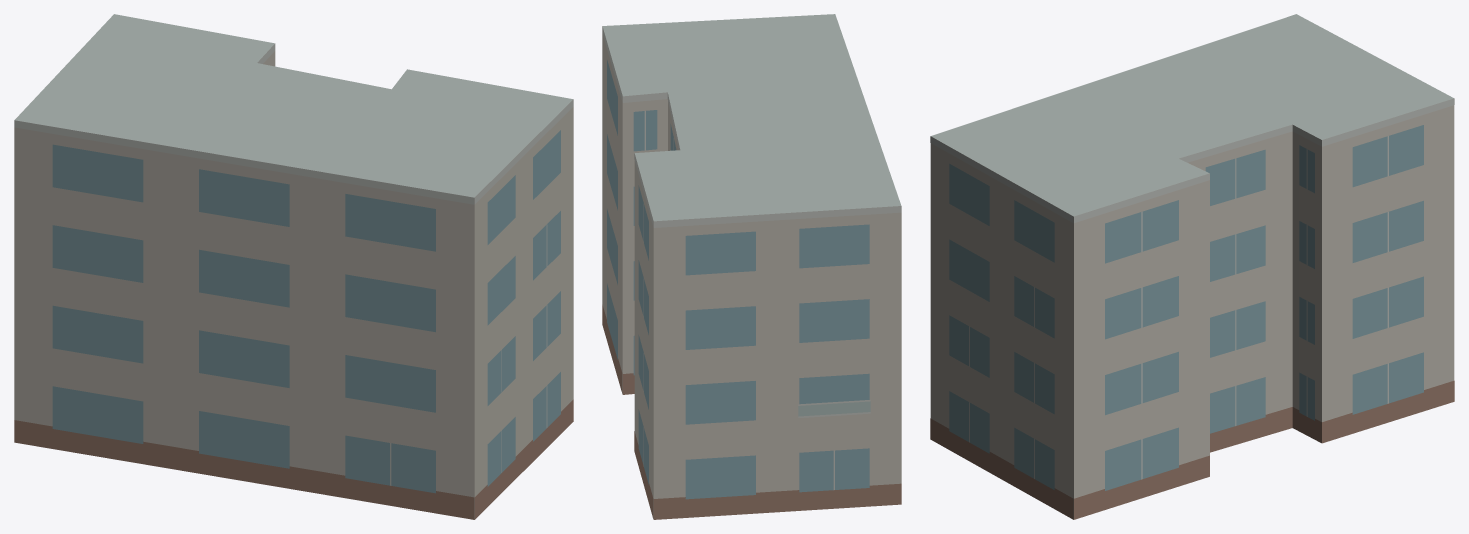
Rendered from survey-upis-32641375.glb.
3 renders of one model, left to right at view 1: azimuth 30°, elevation 25°; view 2: azimuth 150°, elevation 25°; view 3: azimuth 270°, elevation 25°, orthographic. The views are drawn at different scales.
Parts seen in each view (by area): view 1: survey-upis-32641375.tmp; view 2: survey-upis-32641375.tmp; view 3: survey-upis-32641375.tmp.
Part boxes in pixels (x1,y1,x2,y2): survey-upis-32641375.tmp: (14, 14, 573, 519); survey-upis-32641375.tmp: (602, 14, 901, 519); survey-upis-32641375.tmp: (930, 14, 1454, 519).
Size of the model in its own units: 15.69 by 10.95 by 17.15.
